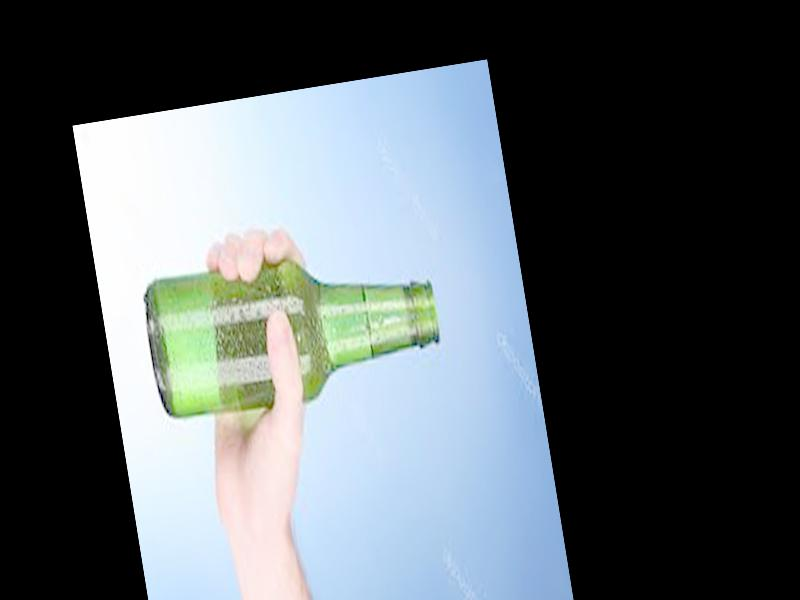Beer: (139, 239, 447, 421)
